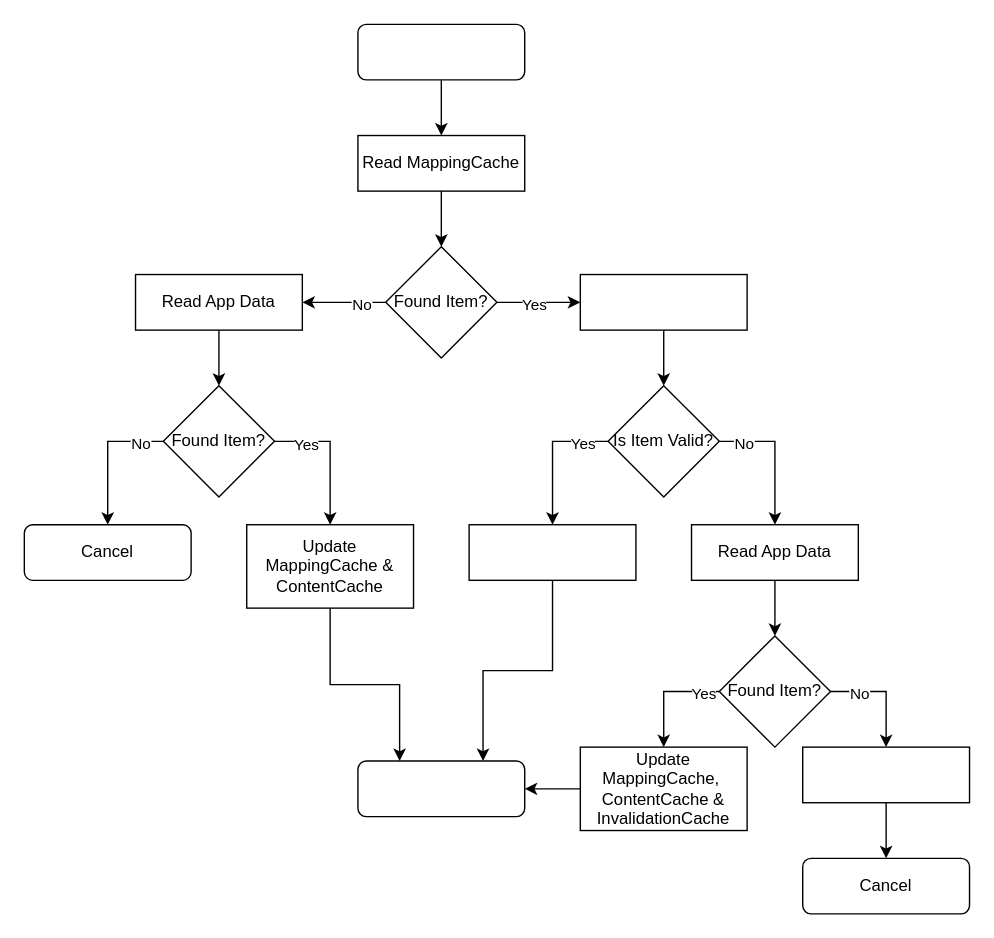
Image size: 994x938. Some labels were removed from this diagram. The centre of each missing label's shape, as x and y in pixels:
"Fill Request" belongs at pixel 441 51.
"Read ContentCache" belongs at pixel 552 551.
"Read InvalidationCache" belongs at pixel 663 301.
"Remove Item from all Caches" belongs at pixel 885 774.
"Success" belongs at pixel 441 788.
